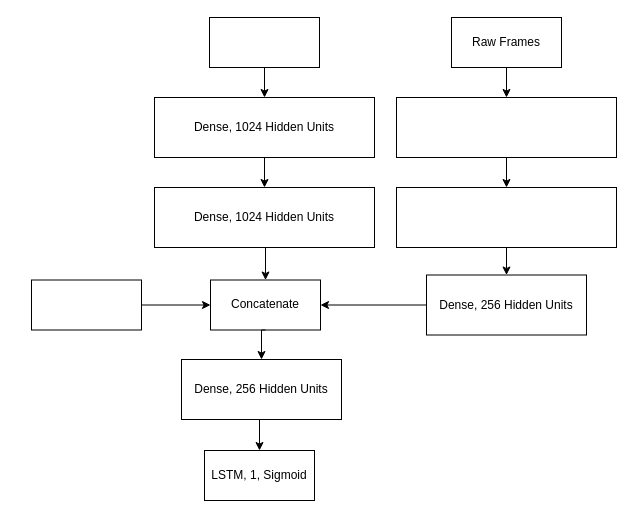
Some shapes in this 634 by 518 pixel diagram are drawn without their labels. Here are the shapes that lost their labels. From the top down, the centre of each, then its label:
At (x=264, y=42): "Hist Data".
At (x=506, y=127): "Conv2D, 20 Filters, Kernel Size = 5".
At (x=506, y=217): "Conv2D, 40 Filters, Kernel Size = 3".
At (x=86, y=304): "Coordinate Features".
